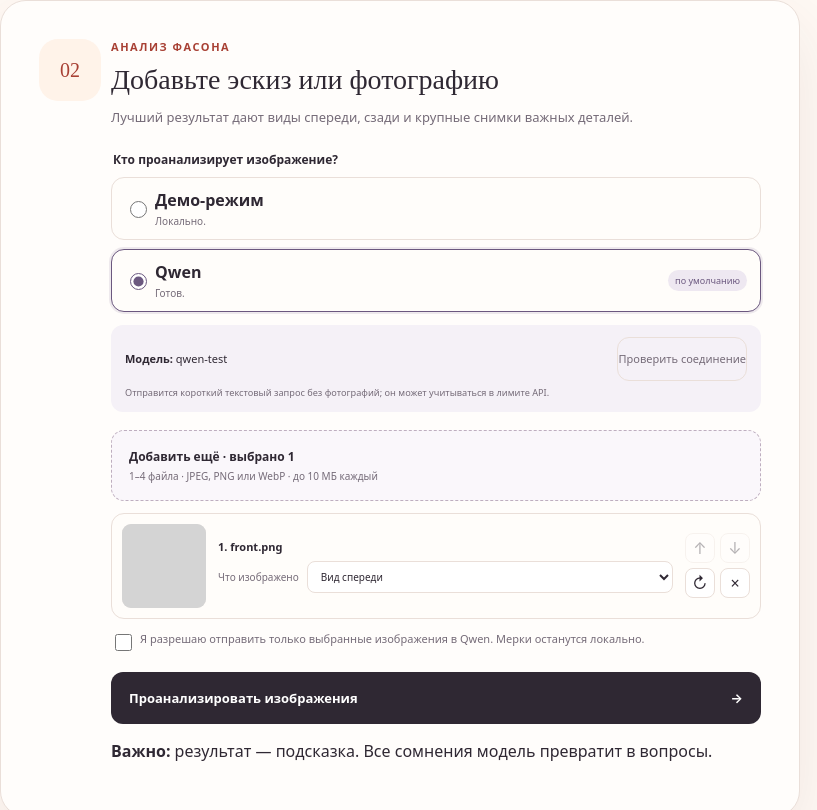
Test case: stage 23 photo and AI workspace › cancels a long analysis and can retry without uploading the photo again
The image size is (817, 810).
Earlier steps of the test are not shown.
Later steps or results of the test are not shown.
Click the checkbox at (124, 642), box [115, 634, 132, 651]
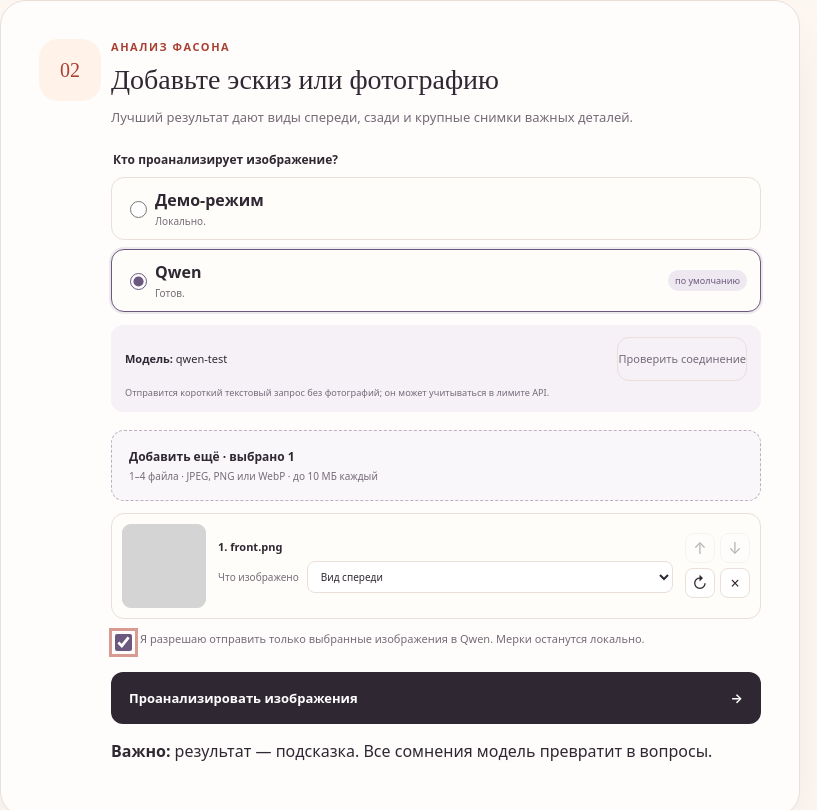
Click the button "Проанализировать изображения →" at (243, 698), box [111, 672, 761, 724]
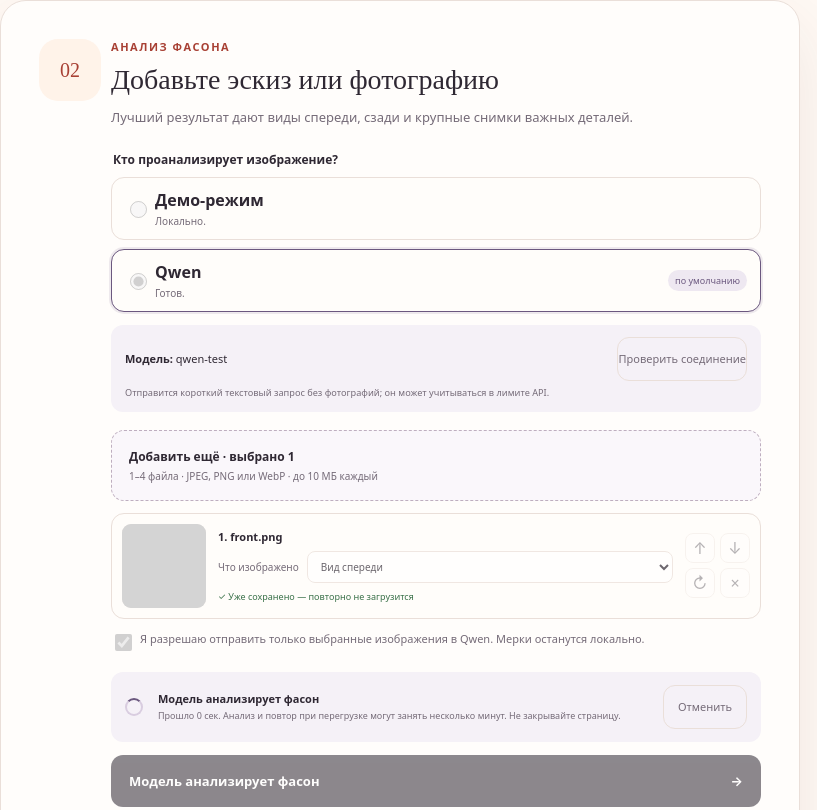
Check: the message shows "Модель анализирует фасон", box [158, 691, 319, 706]
Click the button "Отменить" at (705, 707), box [663, 685, 747, 729]
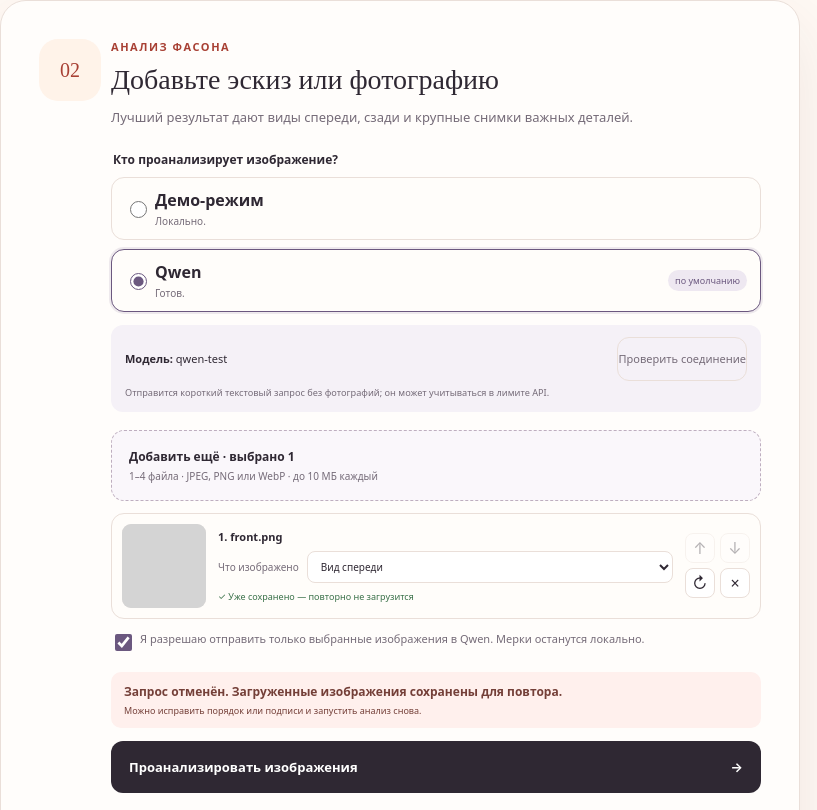
Check: the text "✓ Уже сохранено — повторно не загрузится" is shown, box [218, 590, 414, 603]
Check: the message shows "Запрос отменён", box [124, 683, 562, 700]
